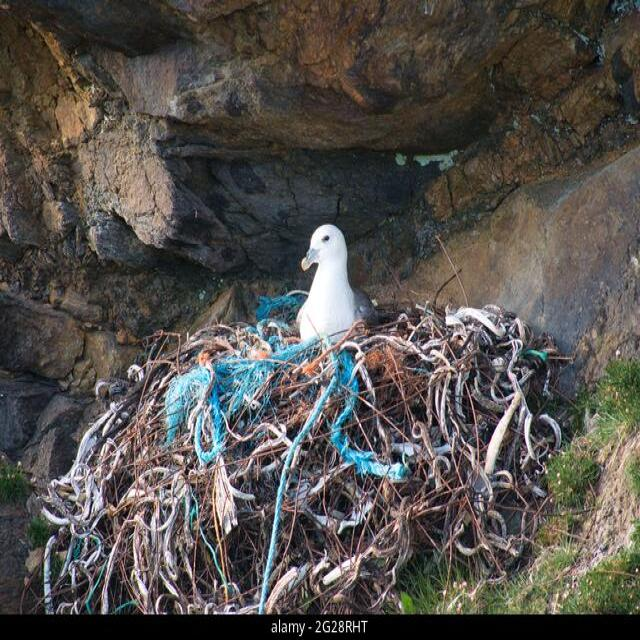trash: (57, 329, 569, 596)
